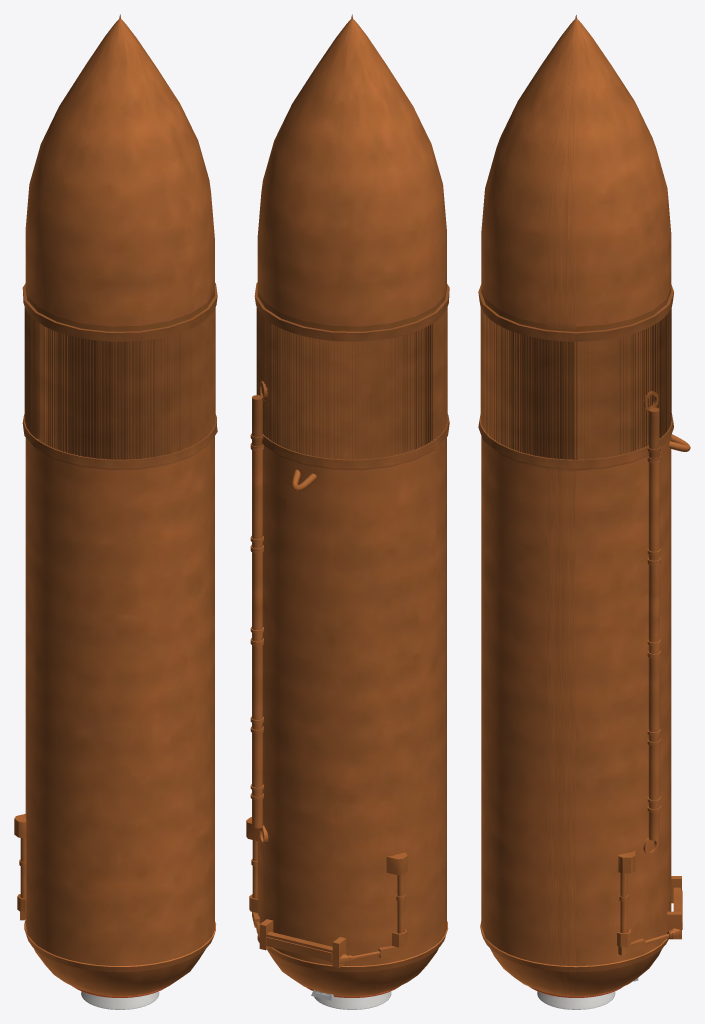
Rendered from shuttle_stack.9526e4715a.glb.
3 renders of one model, left to right at view 1: azimuth 30°, elevation 25°; view 2: azimuth 150°, elevation 25°; view 3: azimuth 270°, elevation 25°, orthographic.
Visible parts, largest first — view 1: ET-mesh, SRB-mesh; view 2: ET-mesh, SRB-mesh; view 3: ET-mesh, SRB-mesh.
Part boxes in pixels (left/top/right/bottom): ET-mesh: left=14, top=14, right=217, bottom=996; SRB-mesh: left=72, top=986, right=166, bottom=1009; ET-mesh: left=246, top=14, right=449, bottom=996; SRB-mesh: left=306, top=986, right=399, bottom=1009; ET-mesh: left=478, top=15, right=690, bottom=996; SRB-mesh: left=529, top=978, right=638, bottom=1009.
Bounding box in the file's own units: 8.66 × 47.76 × 9.37.
4 materials, 3 textured.
